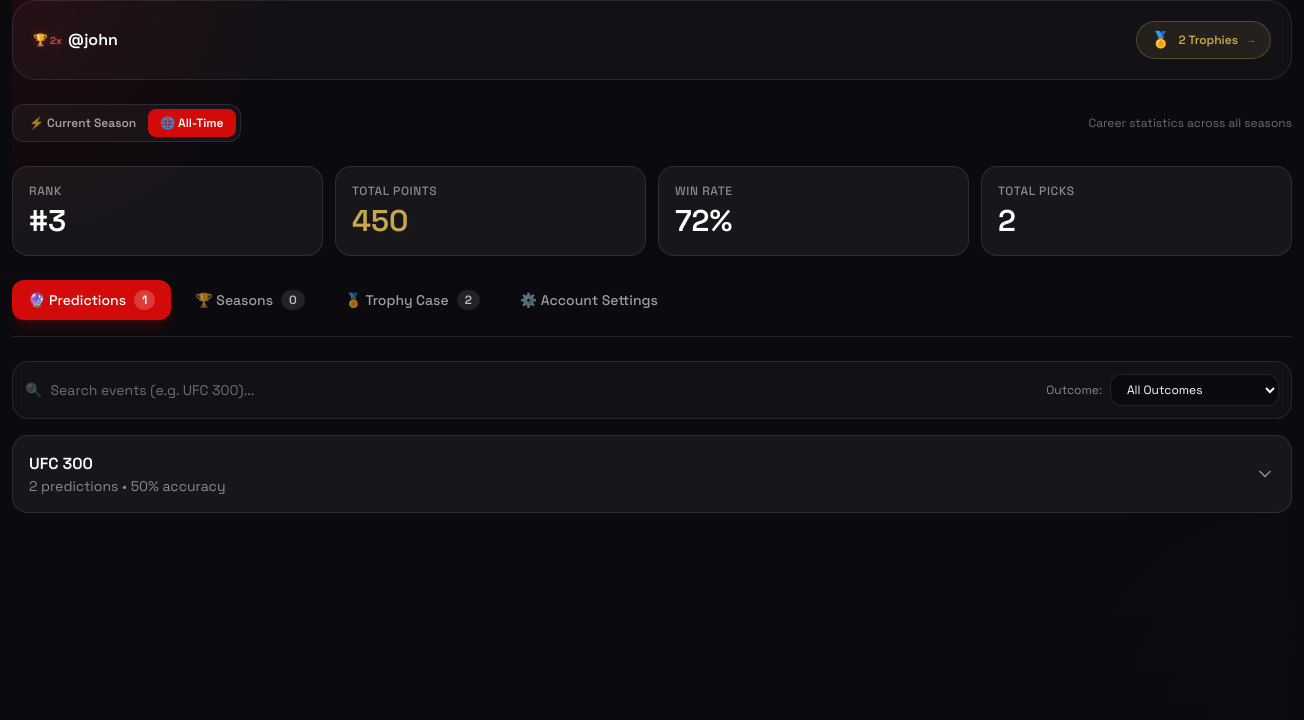
Test: ProfileView › displays separate trophy cards for distinct event wins
Click the button "🏅 Trophy Case 2" at x=412, y=300, box [329,280,496,320]
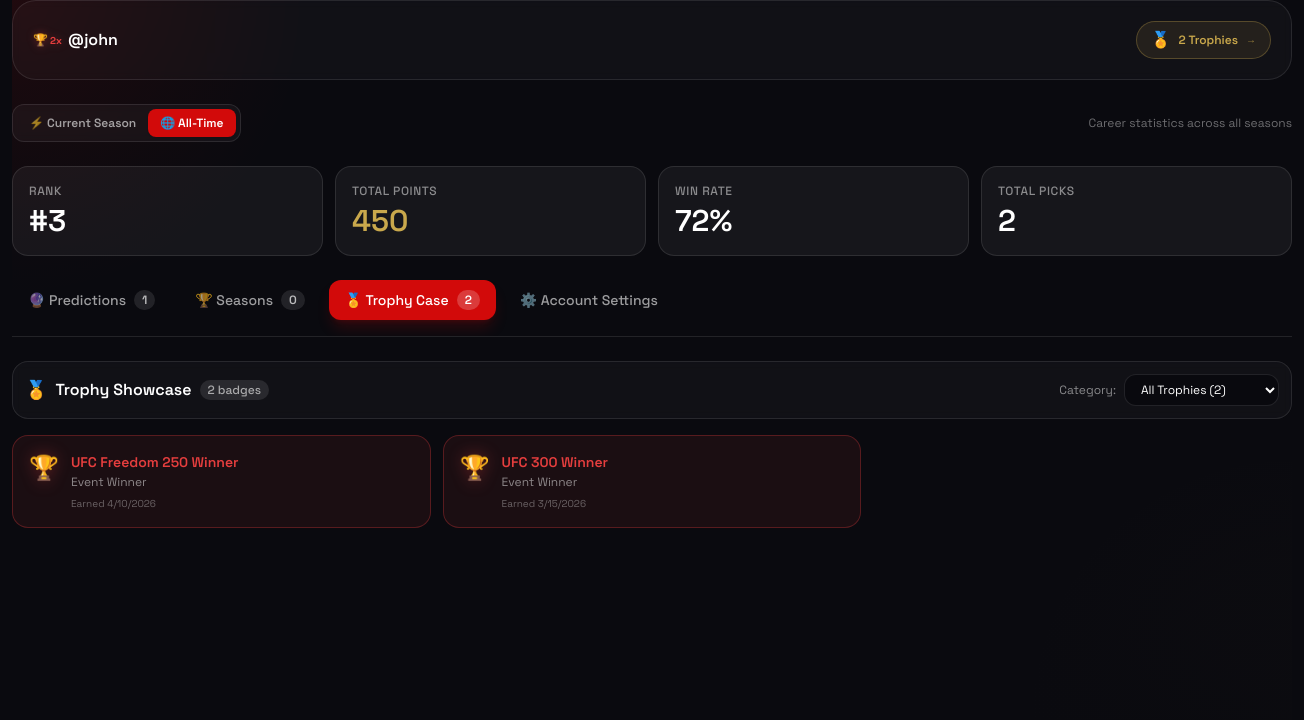
Expected: the text "UFC Freedom 250 Winner" is shown, [71,453,239,471]
Expected: the text "UFC 300 Winner" is shown, [502,453,608,471]
